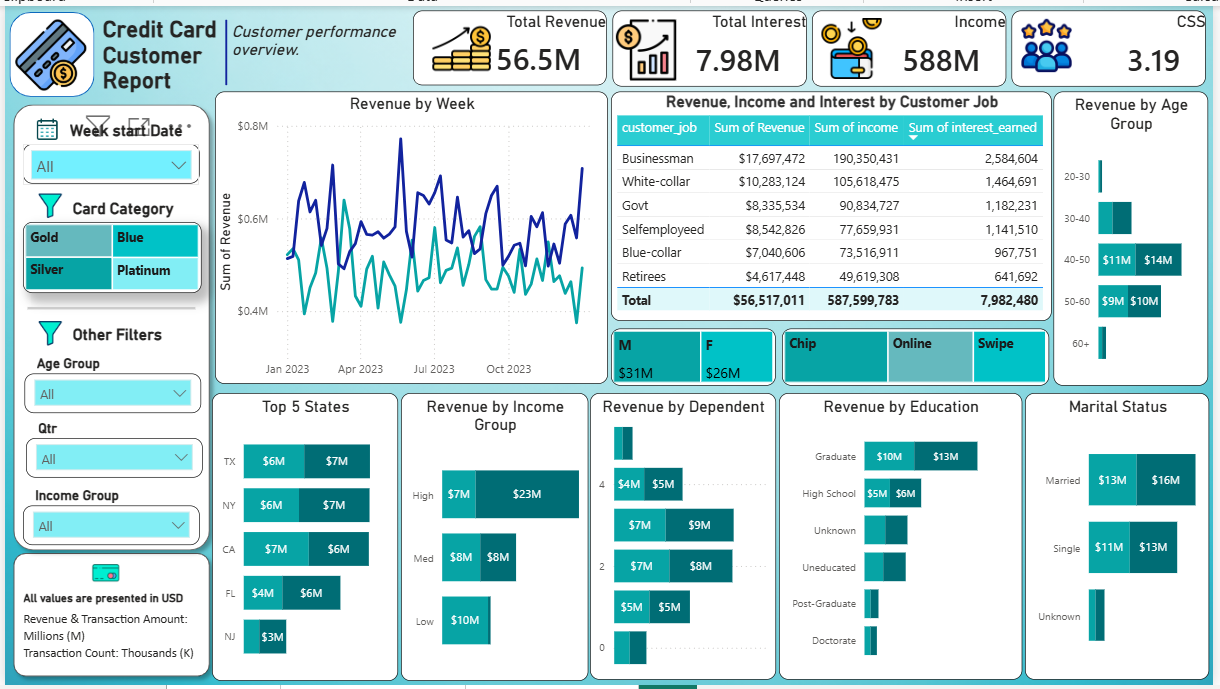

What the dashboard file says about the page in this screenshot:
{"tool":"powerbi","page":{"name":"cc customer_r","canvas":[1280,720],"ordinal":1},"visuals":[{"type":"textbox","box":[68,198.2,143.4,36.8],"z":0,"group":"g7"},{"type":"textbox","box":[68,332.4,143.4,36.8],"z":0,"group":"g8"},{"type":"shape","box":[0,571.7,226.1,148.9],"z":0},{"type":"shape","box":[0,95.6,226.1,490.8],"z":1000},{"type":"image","box":[29.4,198.2,38.6,25.7],"z":1000,"group":"g7"},{"type":"image","box":[29.4,334.5,38.6,25.7],"z":1000,"group":"g8"},{"type":"textbox","box":[99.3,5.5,143.4,91.9],"z":2000},{"type":"barChart","title":"Revenue by Income Group","fields":{"Y":["Sum(public cc_detail.revenue)"],"Category":["public cust_detail.income_group"],"Series":["public cust_detail.gender"]},"box":[419.9,410.4,198.8,305.4],"z":3000},{"type":"barChart","title":"Revenue by Education","fields":{"Y":["Sum(public cc_detail.revenue)"],"Category":["public cust_detail.education_level"],"Series":["public cust_detail.gender"]},"box":[820.8,410.4,257.7,303.8],"z":4000},{"type":"barChart","title":"Revenue by Dependent","fields":{"Y":["Sum(public cc_detail.revenue)"],"Category":["public cust_detail.dependent_count"],"Series":["public cust_detail.gender"]},"box":[620.3,410.4,197.2,303.8],"z":5000},{"type":"barChart","title":"Revenue by Age Group","fields":{"Y":["Sum(public cc_detail.revenue)"],"Category":["public cust_detail.age_group"],"Series":["public cust_detail.gender"]},"box":[1111.8,90.7,163.8,311.8],"z":6000},{"type":"tableEx","title":"Revenue, Income and Interest by Customer Job","fields":{"Values":["public cust_detail.customer_job","Sum(public cc_detail.revenue)","Sum(public cust_detail.income)","Sum(public cc_detail.interest_earned)"]},"box":[642.6,90.7,467.6,243.4],"z":7000},{"type":"cardVisual","title":"Total Revenue","fields":{"Data":["public cc_detail.RevenueKPI"]},"box":[432.4,5.4,205.2,79.5],"z":8000,"group":"g6"},{"type":"slicer","fields":{"Values":["public cc_detail.week_start_date"]},"box":[18.4,147.1,187.5,42.3],"z":8000},{"type":"cardVisual","title":"Total Interest","fields":{"Data":["public cc_detail.InterestKPI"]},"box":[643.6,5.9,205.9,80.9],"z":9000,"group":"g5"},{"type":"treemap","fields":{"Group":["public cc_detail.card_category"],"Values":["Avg(public cc_detail.client_num)"]},"box":[18.4,229.8,189.3,75.4],"z":9000},{"type":"cardVisual","title":"CSS","fields":{"Data":["Avg(public cust_detail.cust_satisfaction_score)"]},"box":[1066.4,5.9,205.9,80.9],"z":10000,"group":"g4"},{"type":"group","id":"g1","title":"Group 6","box":[1.9,7,93.7,90.1],"z":10000},{"type":"group","id":"g2","title":"Group 1","box":[855.5,5.9,205.9,80.9],"z":11000,"group":"g3"},{"type":"cardVisual","title":"Income","fields":{"Data":["Sum(public cust_detail.income)"]},"box":[855.5,5.9,205.9,80.9],"z":11000,"group":"g2"},{"type":"textbox","box":[235.4,11.1,197.2,68.4],"z":11000},{"type":"group","id":"g3","title":"Group 7","box":[432.4,5.4,839.9,81.4],"z":12000},{"type":"group","id":"g4","title":"Group 2","box":[1066.4,5.9,205.9,80.9],"z":12000,"group":"g3"},{"type":"group","id":"g5","title":"Group 3","box":[643.6,5.9,205.9,80.9],"z":13000,"group":"g3"},{"type":"shape","box":[182,14.7,106.6,69.9],"z":13000},{"type":"group","id":"g6","title":"Group 4","box":[432.4,5.4,205.2,79.5],"z":14000,"group":"g3"},{"type":"textbox","box":[64.3,115.8,143.4,36.8],"z":14000},{"type":"image","box":[25.7,117.6,38.6,25.7],"z":15000},{"type":"textbox","box":[14.7,634.2,194.9,64.3],"z":16000},{"type":"image","box":[1070.1,11.4,68,64.3],"z":17000,"group":"g4"},{"type":"image","box":[645.4,15.1,68,64.3],"z":17000,"group":"g5"},{"type":"textbox","box":[14.7,612.1,200.4,33.1],"z":17000},{"type":"image","box":[862.9,13.3,68,64.3],"z":17001,"group":"g2"},{"type":"image","box":[449.4,13.3,68,64.3],"z":17002,"group":"g6"},{"type":"shape","box":[5.6,7,90.1,90.1],"z":18000,"group":"g1"},{"type":"shape","box":[23.9,297.8,178.3,46],"z":18000},{"type":"image","box":[1.9,14.4,93.7,75.4],"z":18500,"group":"g1"},{"type":"group","id":"g7","title":"Group 5","box":[29.4,198.2,182,36.8],"z":19000},{"type":"textbox","box":[27.6,364,143.4,36.8],"z":19001,"group":"g9"},{"type":"textbox","box":[29.3,432.1,143.4,36.8],"z":19001,"group":"g10"},{"type":"textbox","box":[27.1,504.1,143.4,36.8],"z":19001,"group":"g11"},{"type":"slicer","fields":{"Values":["public cust_detail.age_group"]},"box":[20.2,389.7,187.5,42.3],"z":19007,"group":"g9"},{"type":"slicer","fields":{"Values":["public cc_detail.qtr"]},"box":[21.9,457.8,187.5,42.3],"z":19007,"group":"g10"},{"type":"slicer","fields":{"Values":["public cust_detail.income_group"]},"box":[19.7,529.8,187.5,42.3],"z":19007,"group":"g11"},{"type":"group","id":"g8","title":"Group 8","box":[29.4,332.4,182,36.8],"z":20000},{"type":"group","id":"g9","title":"Group 9","box":[20.2,364,187.5,68],"z":21000},{"type":"group","id":"g10","title":"Group 9","box":[21.9,432.1,187.5,68],"z":22000},{"type":"group","id":"g11","title":"Group 9","box":[19.7,504.1,187.5,68],"z":23000},{"type":"image","box":[88.2,584.6,38.6,29.4],"z":24000},{"type":"lineChart","title":"Revenue by Week","fields":{"Series":["public cust_detail.gender"],"Category":["public cc_detail.week_start_date.Variation.Date Hierarchy.Year","public cc_detail.week_start_date.Variation.Date Hierarchy.Quarter","public cc_detail.week_start_date.Variation.Date Hierarchy.Month","public cc_detail.week_start_date.Variation.Date Hierarchy.Day"],"Y":["Sum(public cc_detail.Revenue)"]},"box":[222.7,90.7,416.7,310.2],"z":25000},{"type":"treemap","fields":{"Group":["public cust_detail.gender"],"Values":["Sum(public cc_detail.Revenue)"]},"box":[642.6,342,175,60.4],"z":26000},{"type":"barChart","title":"Top 5 States","fields":{"Y":["Sum(public cc_detail.revenue)"],"Category":["public cust_detail.state_cd"],"Series":["public cust_detail.gender"]},"box":[219.5,410.4,197.2,305.4],"z":27000},{"type":"barChart","title":"Marital Status","fields":{"Series":["public cust_detail.gender"],"Category":["public cust_detail.marital_status"],"Y":["Sum(public cc_detail.Revenue)"]},"box":[1081.6,410.4,195.6,303.8],"z":28000},{"type":"treemap","fields":{"Group":["public cc_detail.use_chip"],"Values":["Avg(public cc_detail.Revenue)"]},"box":[823.9,342,283,60.4],"z":29001}]}

Visuals, with their boxes in screenshot pixels (x1, y1, x2, y2), scaled from the page's 1280x720 canvas onto the 1220x689 screenshot:
textbox: 65/190/201/225
textbox: 65/318/201/353
shape: 0/547/216/688
shape: 0/91/216/561
image: 28/190/65/214
image: 28/320/65/345
textbox: 95/5/231/93
"Revenue by Income Group" barChart: 400/393/590/685
"Revenue by Education" barChart: 782/393/1028/683
"Revenue by Dependent" barChart: 591/393/779/683
"Revenue by Age Group" barChart: 1060/87/1216/385
"Revenue, Income and Interest by Customer Job" tableEx: 612/87/1058/320
"Total Revenue" cardVisual: 412/5/608/81
slicer - public cc_detail.week_start_date: 18/141/196/181
"Total Interest" cardVisual: 613/6/810/83
treemap - public cc_detail.card_category x Avg(public cc_detail.client_num): 18/220/198/292
"CSS" cardVisual: 1016/6/1213/83
"Group 6" group: 2/7/91/93
"Group 1" group: 815/6/1012/83
"Income" cardVisual: 815/6/1012/83
textbox: 224/11/412/76
"Group 7" group: 412/5/1213/83
"Group 2" group: 1016/6/1213/83
"Group 3" group: 613/6/810/83
shape: 173/14/275/81
"Group 4" group: 412/5/608/81
textbox: 61/111/198/146
image: 24/113/61/137
textbox: 14/607/200/668
image: 1020/11/1085/72
image: 615/14/680/76
textbox: 14/586/205/617
image: 822/13/887/74
image: 428/13/493/74
shape: 5/7/91/93
shape: 23/285/193/329
image: 2/14/91/86
"Group 5" group: 28/190/201/225
textbox: 26/348/163/384
textbox: 28/413/165/449
textbox: 26/482/163/518
slicer - public cust_detail.age_group: 19/373/198/413
slicer - public cc_detail.qtr: 21/438/200/479
slicer - public cust_detail.income_group: 19/507/197/547
"Group 8" group: 28/318/201/353
"Group 9" group: 19/348/198/413
"Group 9" group: 21/413/200/479
"Group 9" group: 19/482/197/547
image: 84/559/121/588
"Revenue by Week" lineChart: 212/87/609/384
treemap - public cust_detail.gender x Sum(public cc_detail.Revenue): 612/327/779/385
"Top 5 States" barChart: 209/393/397/685
"Marital Status" barChart: 1031/393/1217/683
treemap - public cc_detail.use_chip x Avg(public cc_detail.Revenue): 785/327/1055/385
